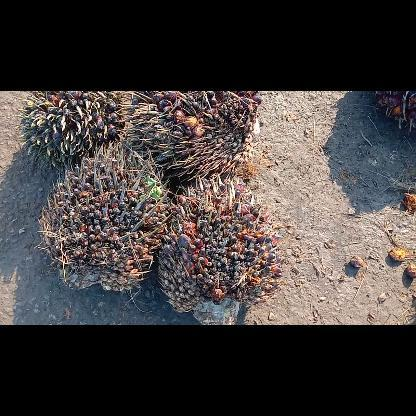TBS abnormal: (37, 138, 169, 296), (157, 170, 285, 324), (13, 91, 130, 165)
TBS masak: (117, 90, 265, 184)
